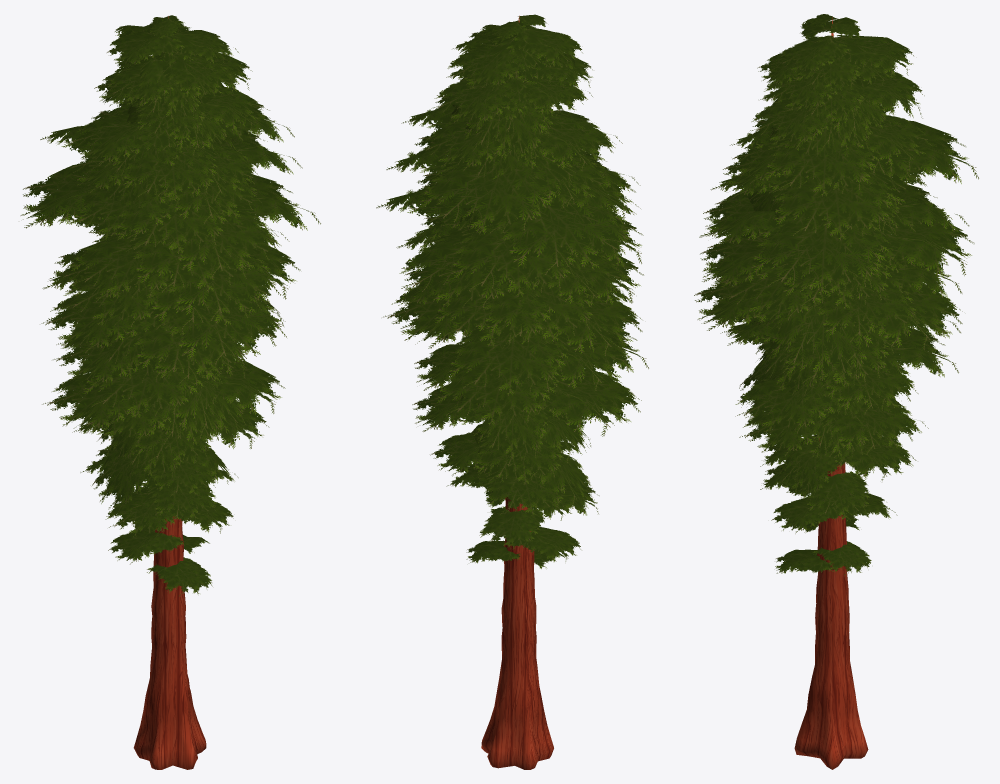
The model's file is redwoods.glb.
The picture shows the model from 3 angles, left to right: view 1: azimuth 30°, elevation 25°; view 2: azimuth 150°, elevation 25°; view 3: azimuth 270°, elevation 25°; orthographic projection.
Parts seen in each view (by area): view 1: TreePackDisplayScene_TreeBig001:TreeBranch_0, TreePackDisplayScene_TreeBig001:Wood_0; view 2: TreePackDisplayScene_TreeBig001:TreeBranch_0, TreePackDisplayScene_TreeBig001:Wood_0; view 3: TreePackDisplayScene_TreeBig001:TreeBranch_0, TreePackDisplayScene_TreeBig001:Wood_0.
Part boxes in pixels (box(x1,y1,x2,y2)): TreePackDisplayScene_TreeBig001:TreeBranch_0: box(20, 15, 320, 596); TreePackDisplayScene_TreeBig001:Wood_0: box(133, 16, 206, 769); TreePackDisplayScene_TreeBig001:TreeBranch_0: box(376, 14, 648, 568); TreePackDisplayScene_TreeBig001:Wood_0: box(481, 15, 553, 769); TreePackDisplayScene_TreeBig001:TreeBranch_0: box(694, 14, 978, 575); TreePackDisplayScene_TreeBig001:Wood_0: box(794, 17, 868, 769).
Bounding box in the file's own units: 1546 × 3996 × 1474.
2 materials, 2 textured.
